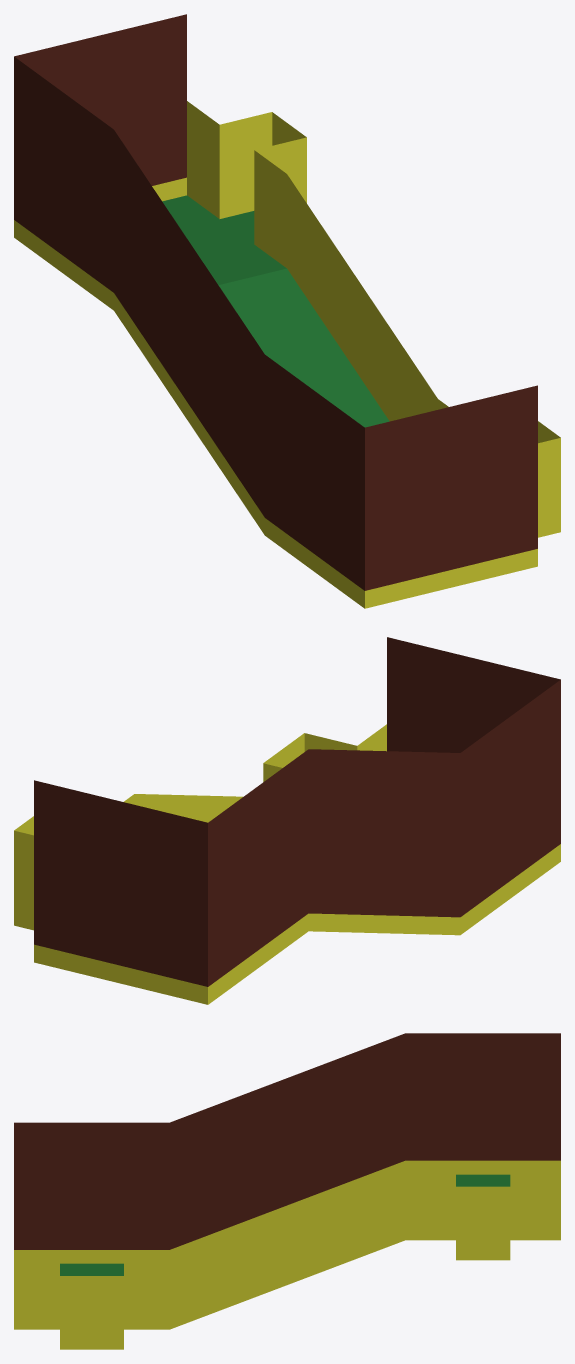
Rendered from room2.dae.
3 renders of one model, top to bottom at view 1: azimuth 30°, elevation 25°; view 2: azimuth 150°, elevation 25°; view 3: azimuth 270°, elevation 25°, orthographic. The views are drawn at different scales.
Parts seen in each view (by area): view 1: Cube.001, Cube.002; view 2: Cube.001, Cube.002; view 3: Cube.001, Cube.002.
Boxes of the visible parts, bbox=[...] form: Cube.001: bbox=[14, 14, 537, 608]; Cube.002: bbox=[187, 101, 560, 537]; Cube.001: bbox=[34, 637, 560, 1004]; Cube.002: bbox=[14, 724, 386, 930]; Cube.001: bbox=[14, 1033, 560, 1275]; Cube.002: bbox=[14, 1166, 560, 1349].
Size of the model in its own units: 2.61 by 7.02 by 3.26.
